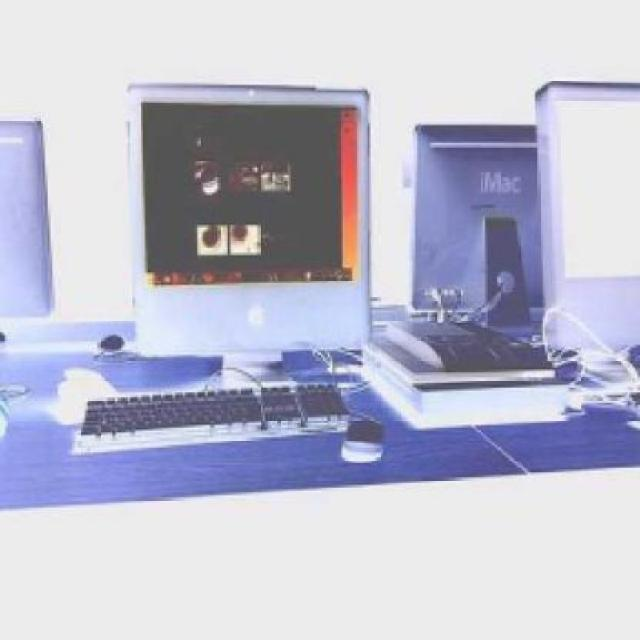mause: (328, 402, 400, 473)
